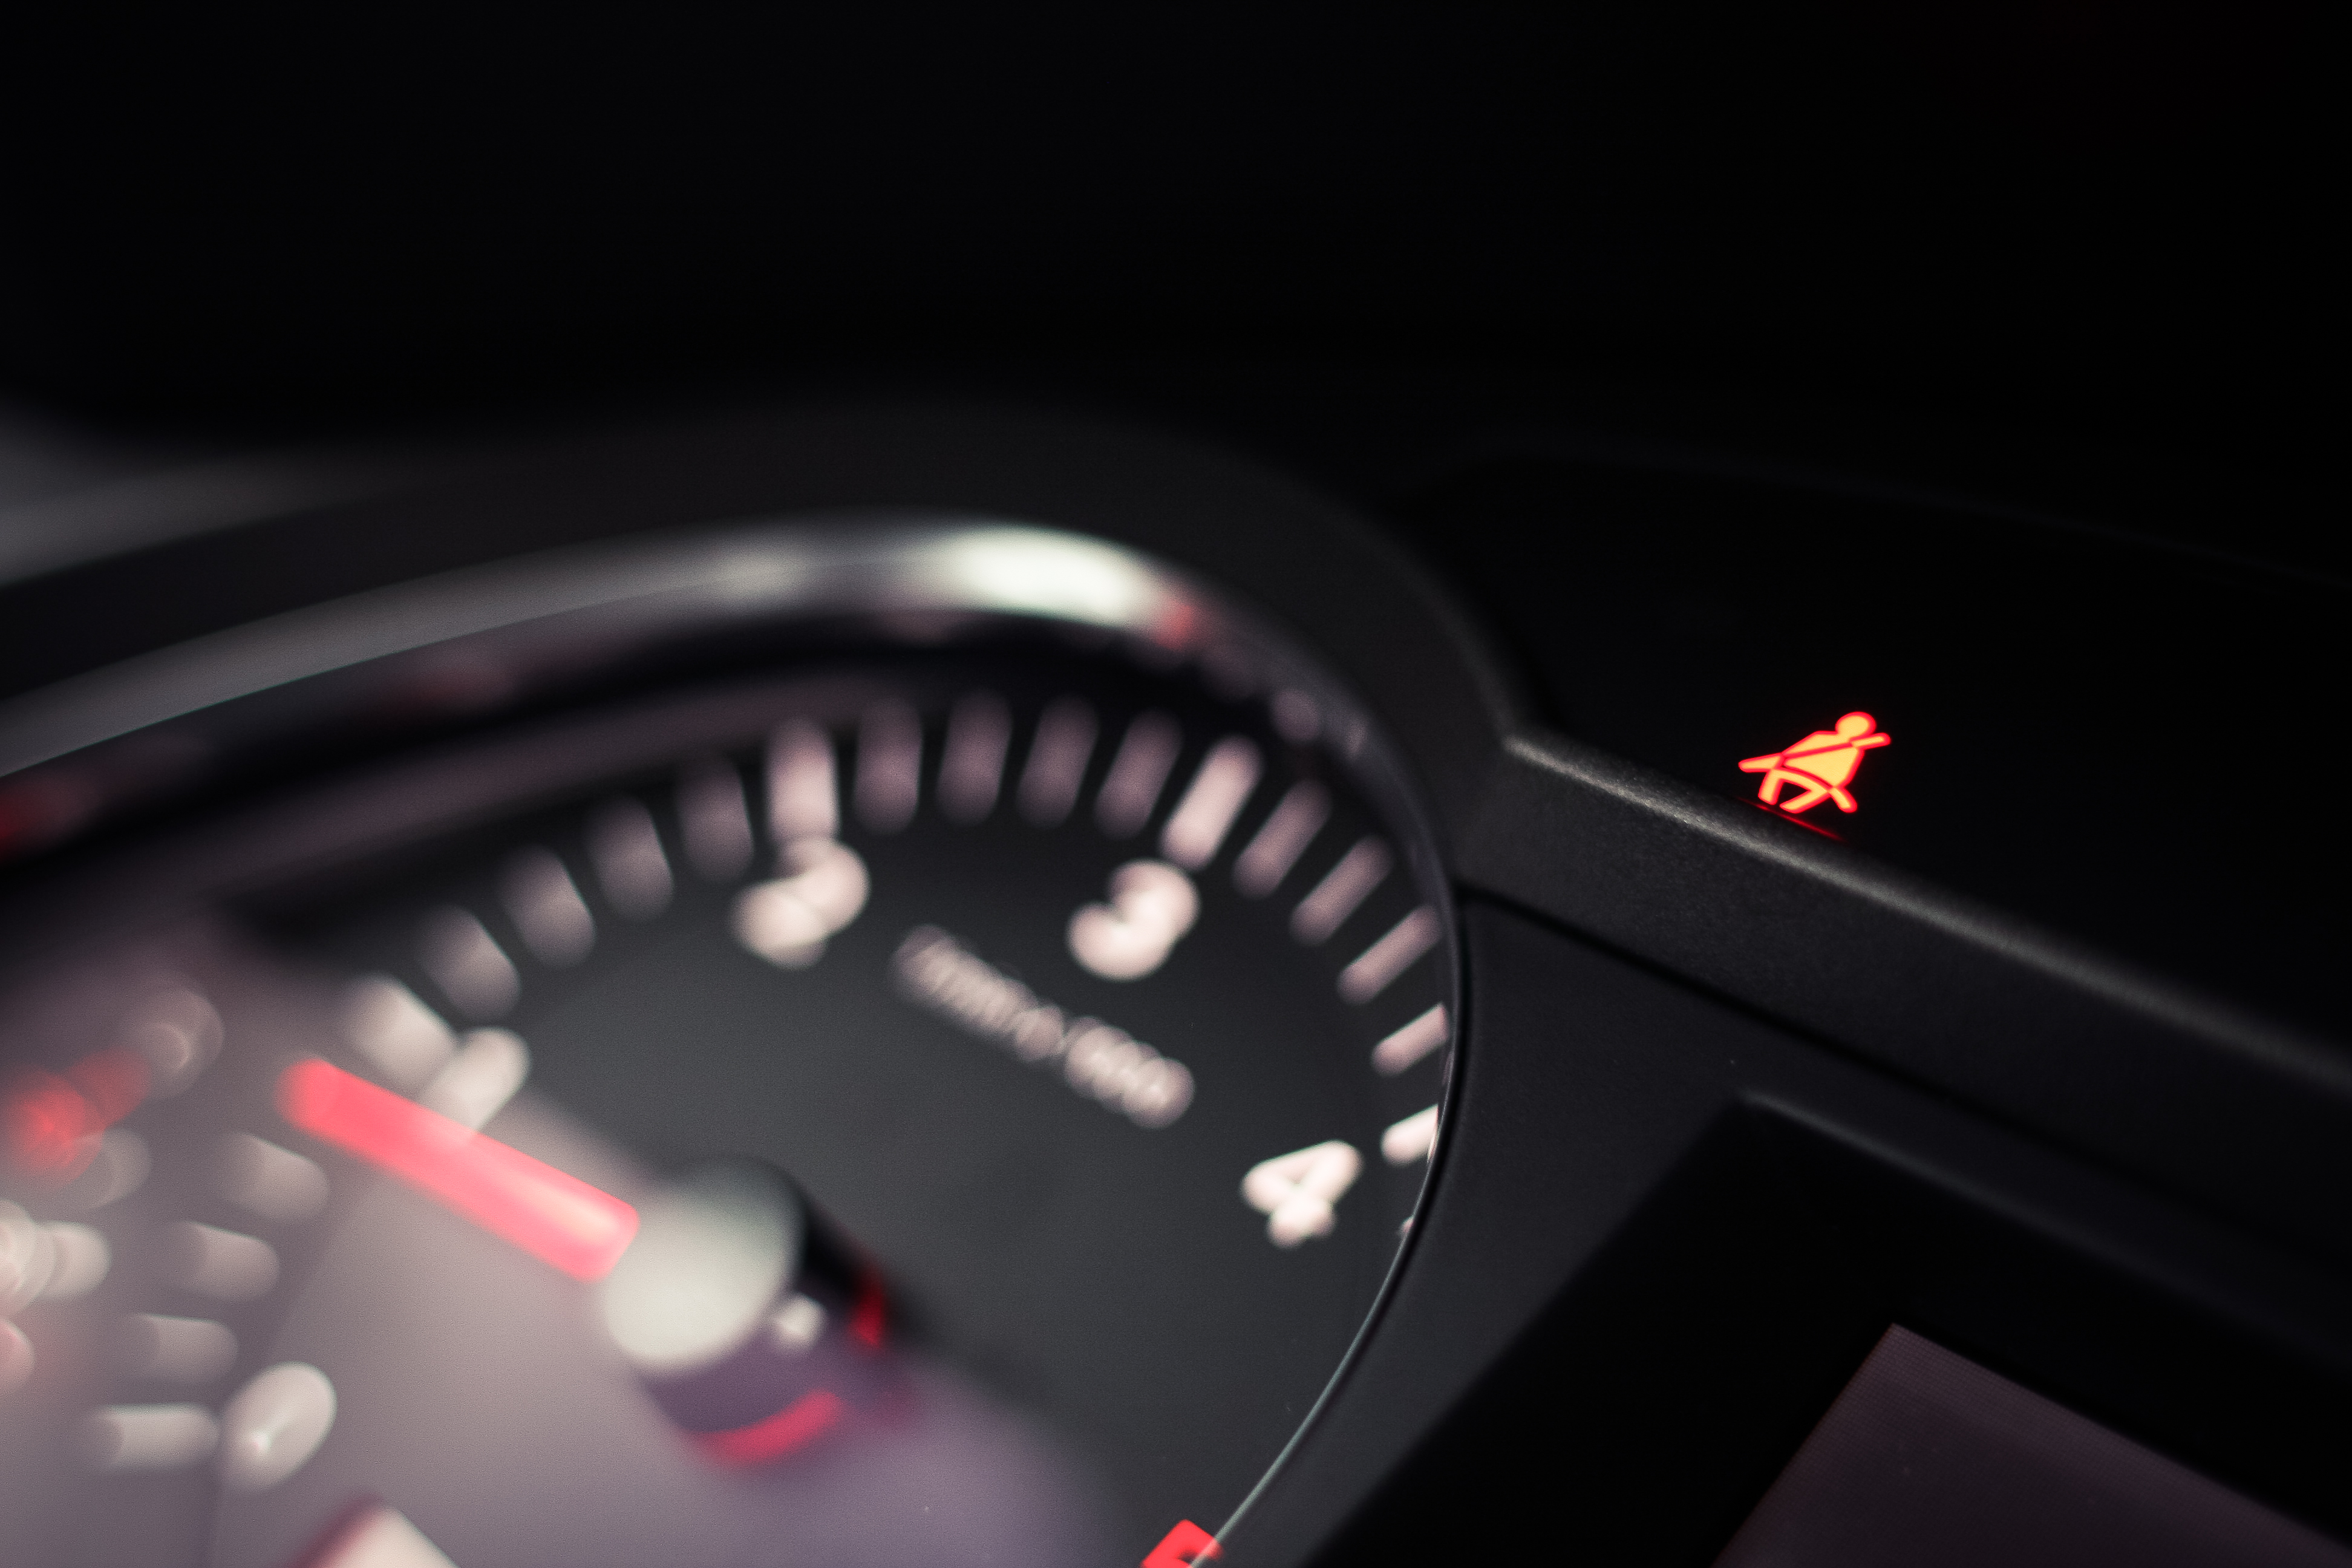Seatbelt_warning: (1743, 691, 1909, 832)
